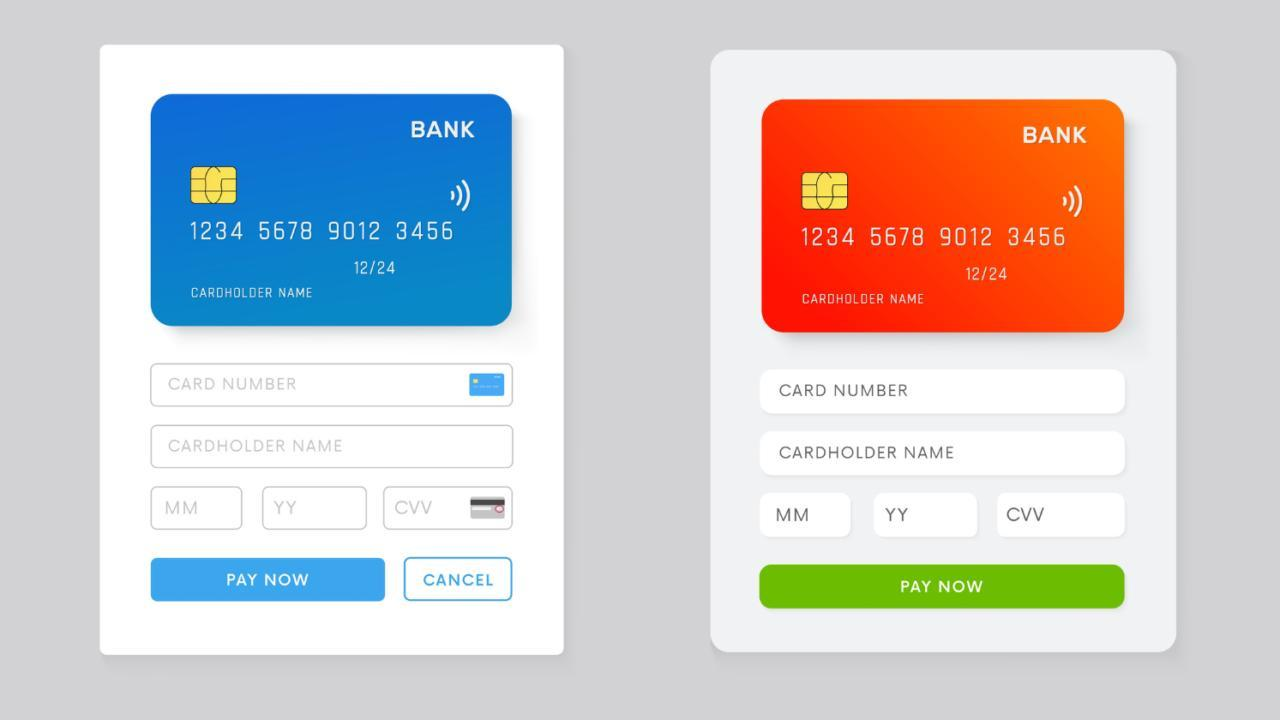button: (757, 563, 1129, 613), (150, 558, 389, 604), (404, 558, 515, 604)
input: (762, 370, 1128, 418), (759, 433, 1126, 479), (150, 365, 515, 409), (152, 426, 515, 470), (997, 493, 1128, 540), (384, 487, 512, 530), (872, 494, 983, 540), (263, 488, 368, 531), (762, 492, 855, 539), (151, 486, 244, 532)
